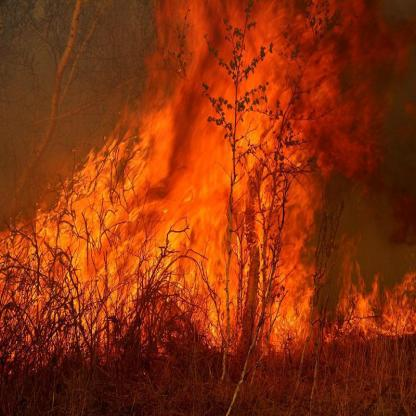fire: (2, 120, 413, 348)
